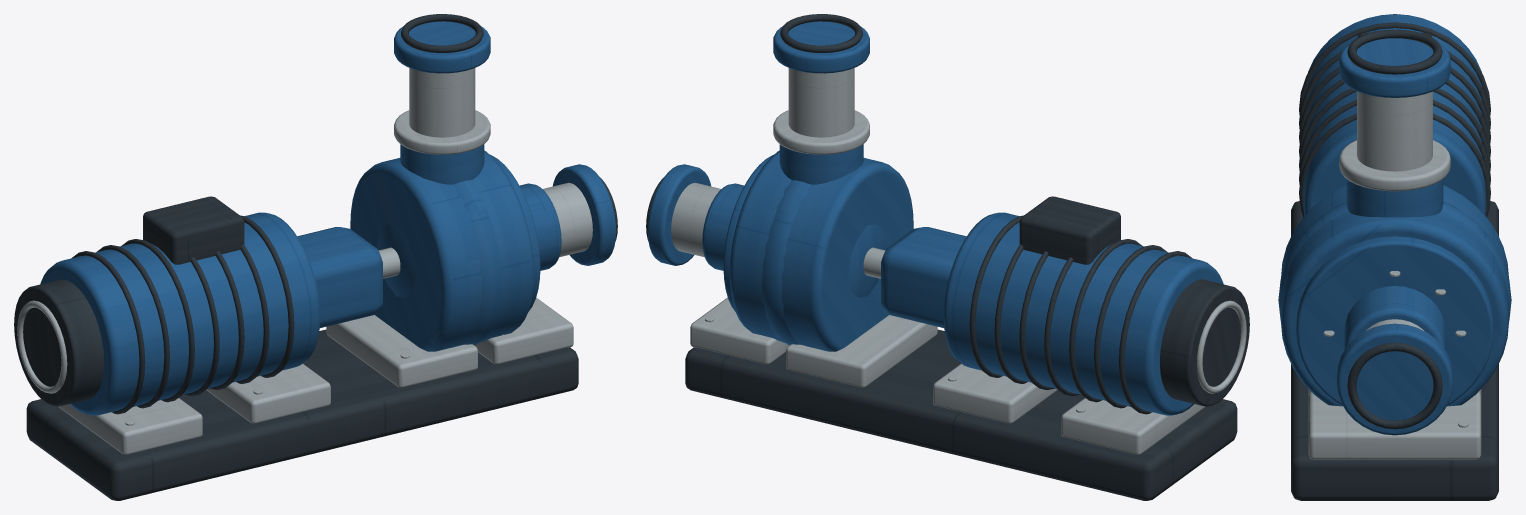
Rendered from PUMP-001.fbx.
3 renders of one model, left to right at view 1: azimuth 30°, elevation 25°; view 2: azimuth 150°, elevation 25°; view 3: azimuth 270°, elevation 25°, orthographic. The views are drawn at different scales.
Parts seen in each view (by area): view 1: Skid_Base, Motor_Frame, Volute_Casing, Motor_Fan_Cover, Coupling_Guard, Mounting_Foot.002, Terminal_Box, Volute_Bulge, Mounting_Foot, Mounting_Foot.001, Outlet_Riser, Outlet_Flange (+16 smaller); view 2: Skid_Base, Motor_Frame, Volute_Casing, Motor_Fan_Cover, Coupling_Guard, Mounting_Foot.002, Terminal_Box, Volute_Bulge, Mounting_Foot, Mounting_Foot.001, Outlet_Riser, Outlet_Flange (+16 smaller); view 3: Casing_Front_Cover, Volute_Casing, Skid_Base, Motor_Frame, Inlet_Flange, Mounting_Foot.003, Outlet_Riser, Outlet_Flange, Suction_Nozzle, Flange_Rim, Discharge_Flange, Inlet_Gasket (+9 smaller).
Part boxes in pixels (x1,y1,x2,y2): Skid_Base: [26, 329, 578, 500]; Motor_Frame: [40, 212, 320, 415]; Volute_Casing: [350, 150, 534, 351]; Motor_Fan_Cover: [14, 279, 104, 406]; Coupling_Guard: [297, 227, 382, 327]; Mounting_Foot.002: [326, 315, 477, 387]; Terminal_Box: [143, 196, 244, 264]; Volute_Bulge: [377, 180, 501, 345]; Mounting_Foot: [58, 398, 202, 454]; Mounting_Foot.001: [206, 363, 330, 423]; Outlet_Riser: [409, 68, 475, 137]; Outlet_Flange: [394, 21, 490, 73]; Skid_Base: [685, 329, 1237, 500]; Motor_Frame: [943, 212, 1223, 415]; Volute_Casing: [729, 150, 913, 351]; Motor_Fan_Cover: [1159, 279, 1249, 406]; Coupling_Guard: [881, 227, 966, 327]; Mounting_Foot.002: [786, 315, 937, 387]; Terminal_Box: [1019, 196, 1120, 264]; Volute_Bulge: [762, 180, 886, 345]; Mounting_Foot: [1061, 398, 1205, 454]; Mounting_Foot.001: [933, 363, 1057, 423]; Outlet_Riser: [788, 68, 854, 137]; Outlet_Flange: [773, 21, 869, 73]; Casing_Front_Cover: [1296, 236, 1493, 405]; Volute_Casing: [1281, 185, 1508, 406]; Skid_Base: [1291, 201, 1498, 500]; Motor_Frame: [1303, 14, 1486, 215]; Inlet_Flange: [1336, 323, 1453, 435]; Mounting_Foot.003: [1308, 392, 1481, 459]; Outlet_Riser: [1357, 91, 1432, 171]; Outlet_Flange: [1339, 38, 1450, 97]; Suction_Nozzle: [1344, 286, 1445, 350]; Flange_Rim: [1339, 140, 1450, 191]; Discharge_Flange: [1346, 179, 1443, 217]; Inlet_Gasket: [1347, 342, 1442, 429].
Size of the model in its own units: 2.92 by 1.76 by 0.92.
